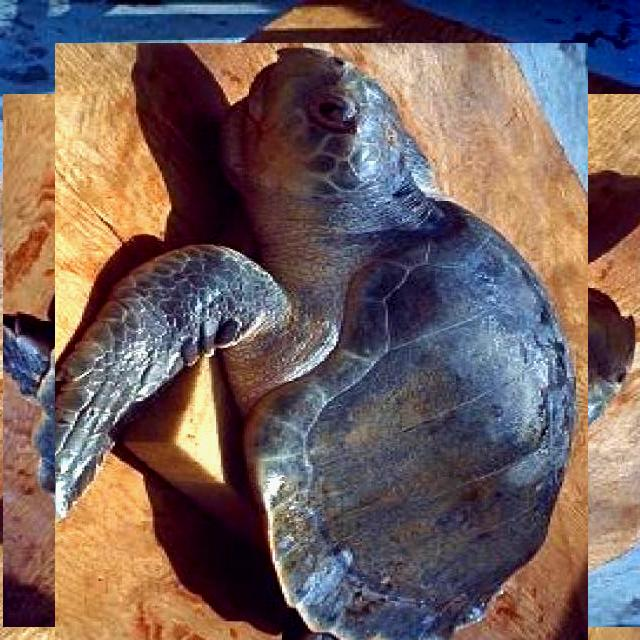Sea turtle: (29, 68, 614, 640)
